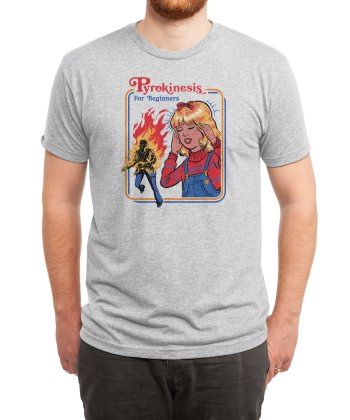design: (118, 72, 230, 210)
